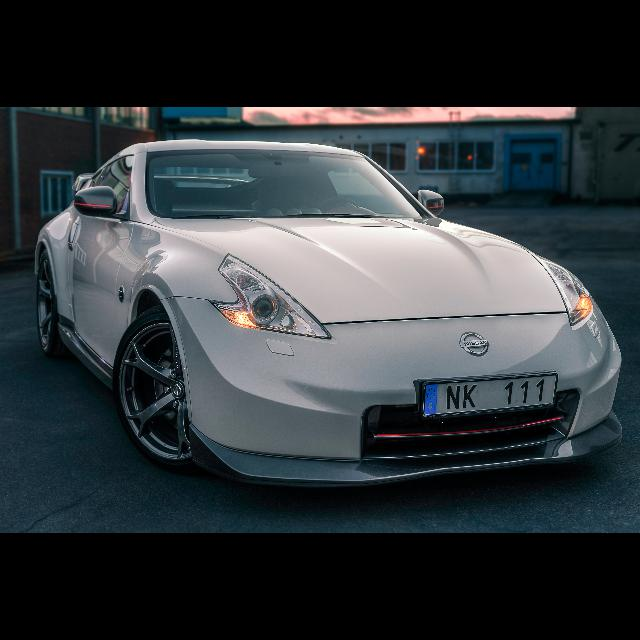cars: (27, 132, 625, 494)
